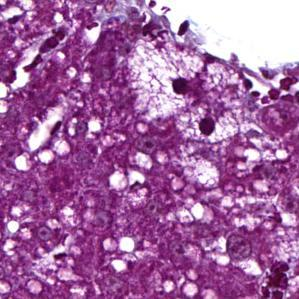ballooning: (126, 38, 202, 124), (177, 98, 240, 145)
